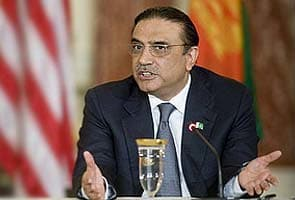stroke: (134, 27, 172, 89)
